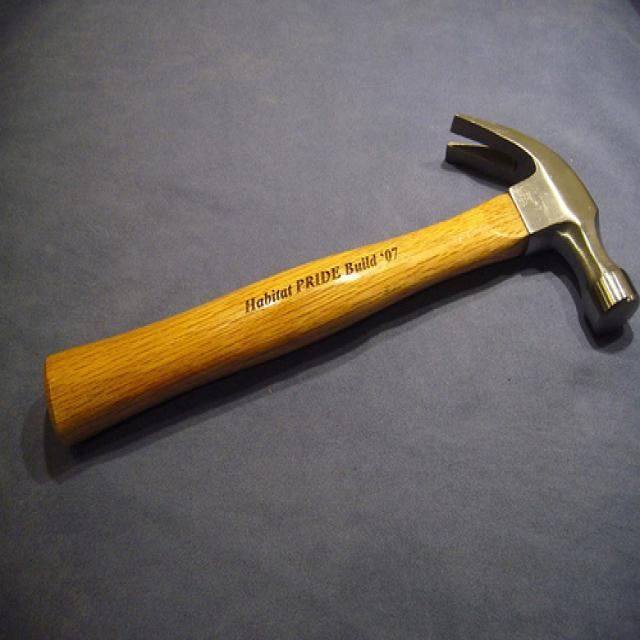hammer: (36, 93, 640, 464)
